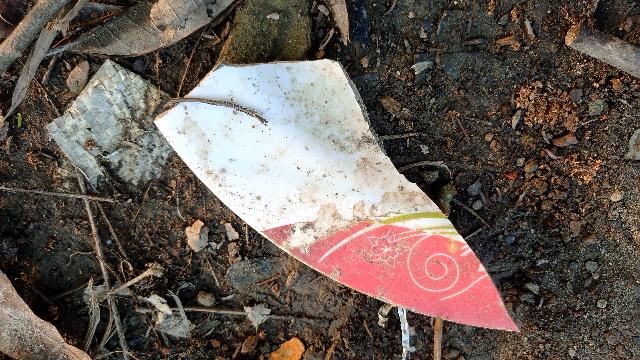hardplastic: (121, 0, 525, 360)
